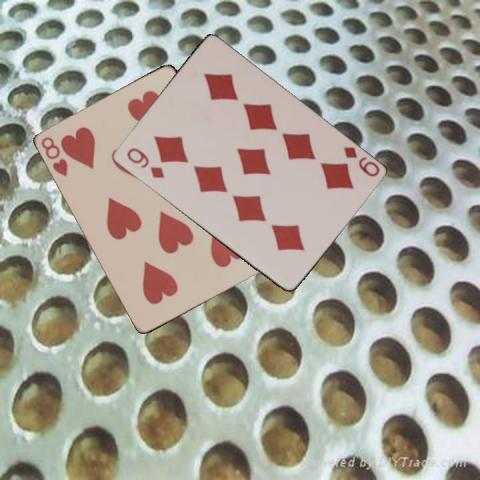8h: (38, 133, 70, 179)
9d: (123, 145, 166, 180), (340, 143, 381, 179)
